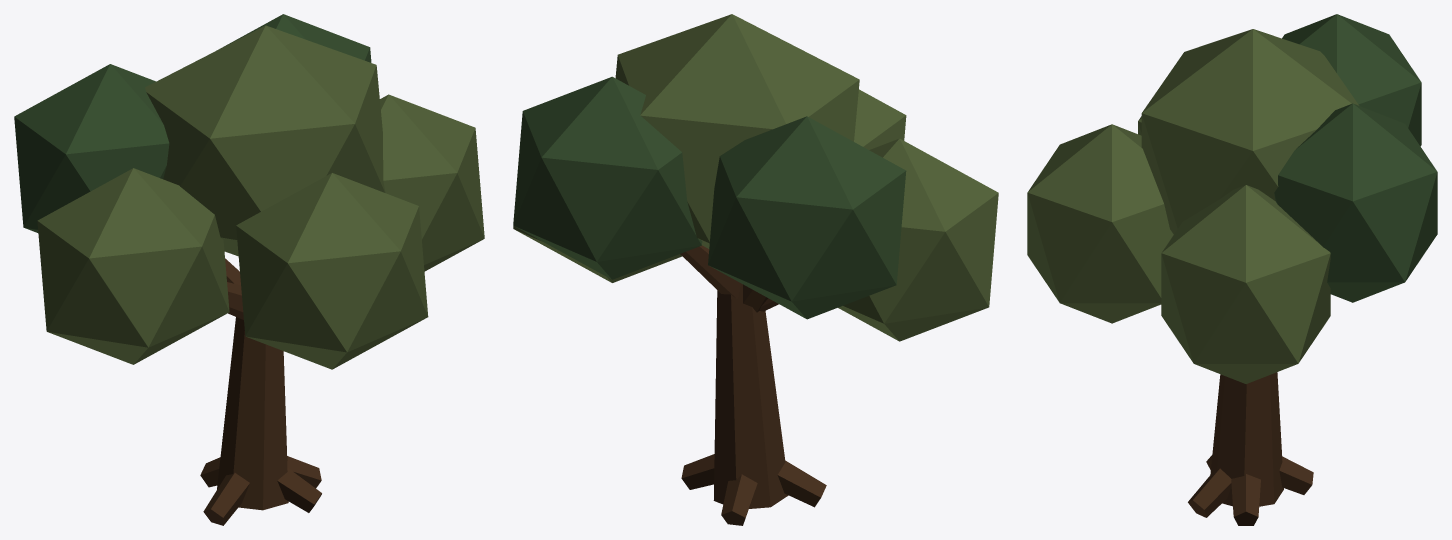
File: SM_ENV_Tree_04_Young.glb
3 renders of one model, left to right at view 1: azimuth 30°, elevation 25°; view 2: azimuth 150°, elevation 25°; view 3: azimuth 270°, elevation 25°, orthographic. The views are drawn at different scales.
Visible parts, largest first — view 1: SM_ENV_Tree_04_Young; view 2: SM_ENV_Tree_04_Young; view 3: SM_ENV_Tree_04_Young.
Part boxes in pixels (x1,y1,x2,y2): SM_ENV_Tree_04_Young: (14,14,484,525); SM_ENV_Tree_04_Young: (513,14,998,525); SM_ENV_Tree_04_Young: (1027,14,1437,525).
Bounding box in the file's own units: 2.95 × 3.01 × 2.35.
